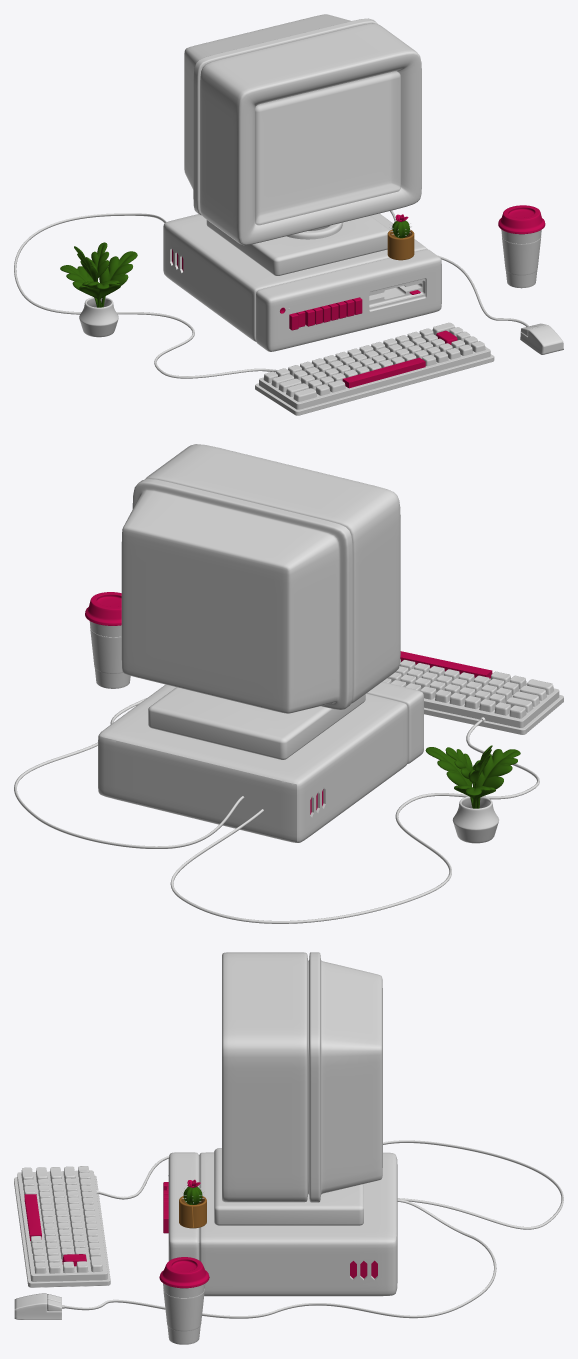
Rendered from monitor-site.glb.
3 views of the same model, one above another, from view 1: azimuth 30°, elevation 25°; view 2: azimuth 150°, elevation 25°; view 3: azimuth 270°, elevation 25° (orthographic). The views are drawn at different scales.
Visible parts, largest first — view 1: Cube.068, Desktop-Computer, Screen, Boolean, Rectangle 4, Path, Rectangle 4.001, basket, Paper_Cup_Wrap, coffee-top, mouse, Cube.067 (+5 smaller); view 2: Cube.068, Desktop-Computer, Boolean, Path, basket, Rectangle 4, Path 2, Paper_Cup_Wrap, coffee-top, big_leaf_5, Rectangle 4.001, Paper_Cup_Body (+2 smaller); view 3: Cube.068, Desktop-Computer, Boolean, Rectangle 4, Path 2, Path, Paper_Cup_Wrap, Rectangle 4.001, coffee-top, mouse, Paper_Cup_Body, Cylinder (+1 smaller).
Part boxes in pixels (x1,y1,x2,y2): Cube.068: (184,14,421,245); Desktop-Computer: (163,213,441,351); Screen: (255,71,400,225); Boolean: (206,215,389,275); Rectangle 4: (259,327,490,409); Path: (14,213,277,378); Rectangle 4.001: (255,354,494,415); basket: (79,297,118,337); Paper_Cup_Wrap: (501,235,541,275); coffee-top: (498,205,545,234); mouse: (520,323,563,354); Cube.067: (342,357,425,388); Cube.068: (121,444,400,713); Desktop-Computer: (98,681,423,842); Boolean: (148,687,365,759); Path: (170,719,539,923); basket: (452,796,498,843); Rectangle 4: (424,678,559,727); Path 2: (14,698,244,848); Paper_Cup_Wrap: (90,627,122,673); coffee-top: (85,592,121,625); big_leaf_5: (473,749,520,808); Rectangle 4.001: (424,695,563,734); Paper_Cup_Body: (89,621,130,688); Cube.068: (222,952,382,1202); Desktop-Computer: (168,1152,397,1296); Boolean: (214,1148,363,1225); Rectangle 4: (17,1170,107,1281); Path 2: (64,1199,496,1318); Path: (98,1140,563,1229); Paper_Cup_Wrap: (163,1289,204,1331); Rectangle 4.001: (14,1175,110,1287); coffee-top: (159,1257,209,1288); mouse: (14,1293,61,1319); Paper_Cup_Body: (163,1283,205,1344); Cylinder: (179,1196,206,1228).
Bounding box in the file's own units: 12.23 × 6.95 × 13.41.
